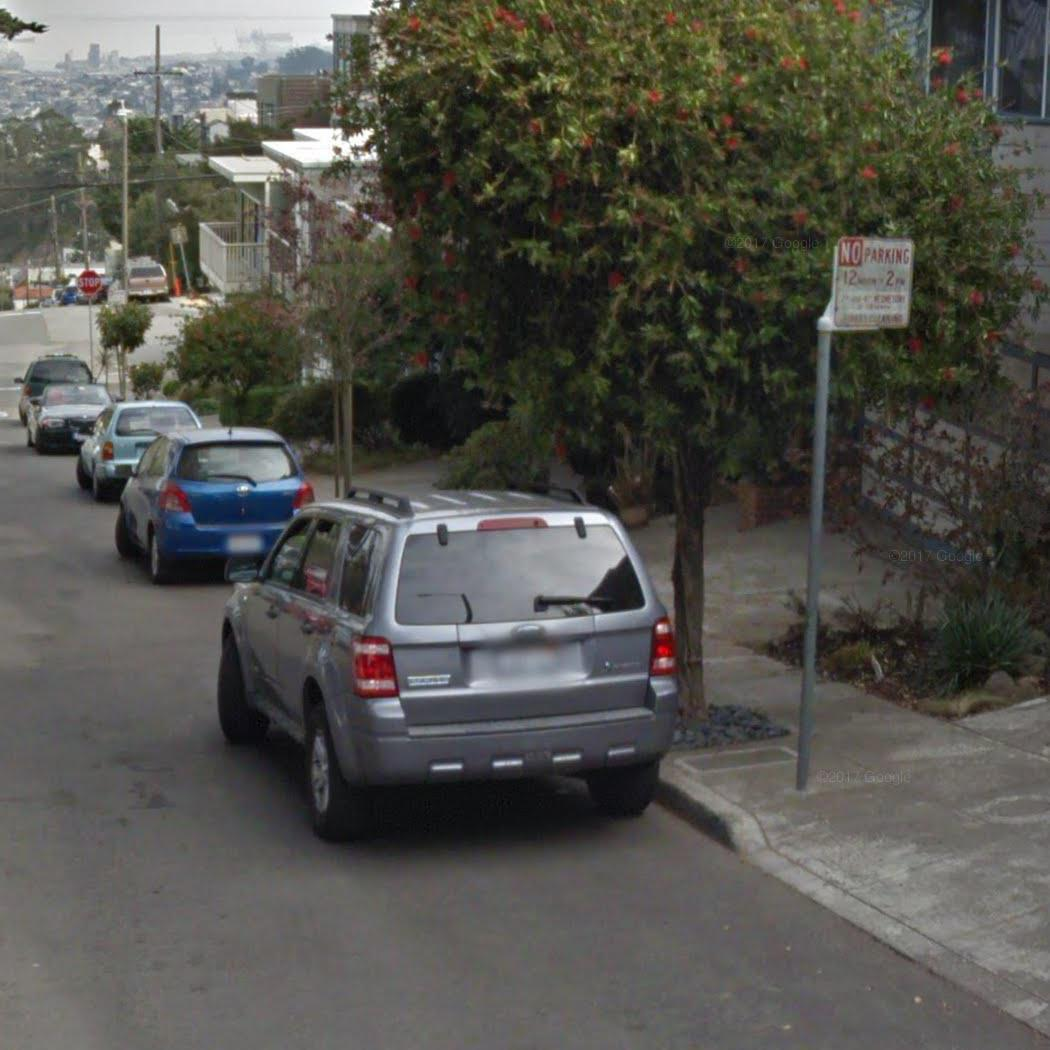No Parking: (835, 233, 914, 327)
